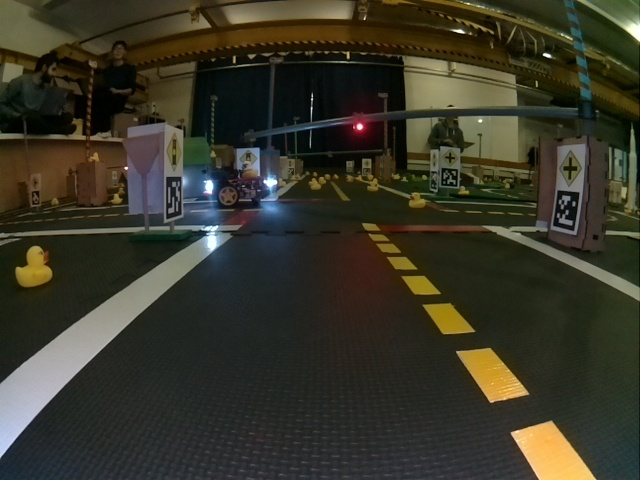Duckie: (15, 247, 52, 287), (408, 192, 426, 207), (241, 162, 257, 178), (367, 182, 377, 192), (310, 182, 320, 191), (89, 153, 99, 162), (112, 194, 121, 204)
Duckiebot: (207, 176, 271, 207)
Intersection sign: (559, 149, 580, 186), (442, 149, 459, 167)
QR code: (551, 190, 580, 232), (164, 176, 182, 220), (440, 168, 458, 188), (429, 171, 438, 190)
Signal sign: (165, 130, 183, 169), (239, 150, 257, 168)
Traffic light: (354, 119, 365, 132)
